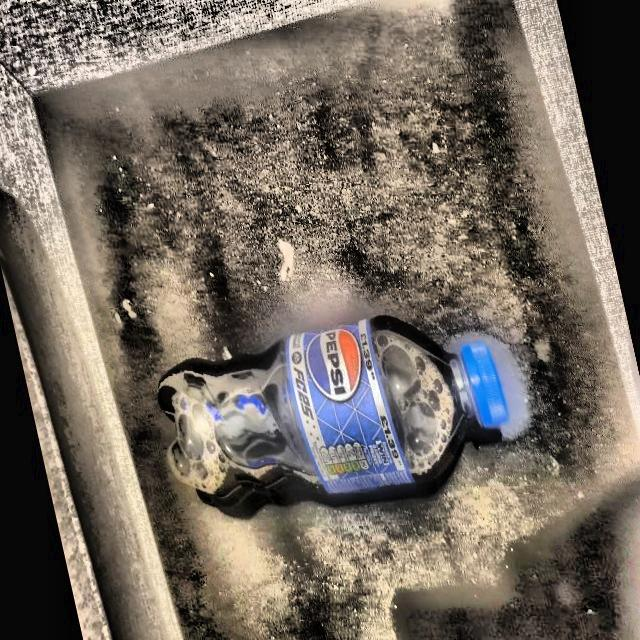pepsi-bottle: (155, 322, 507, 514)
